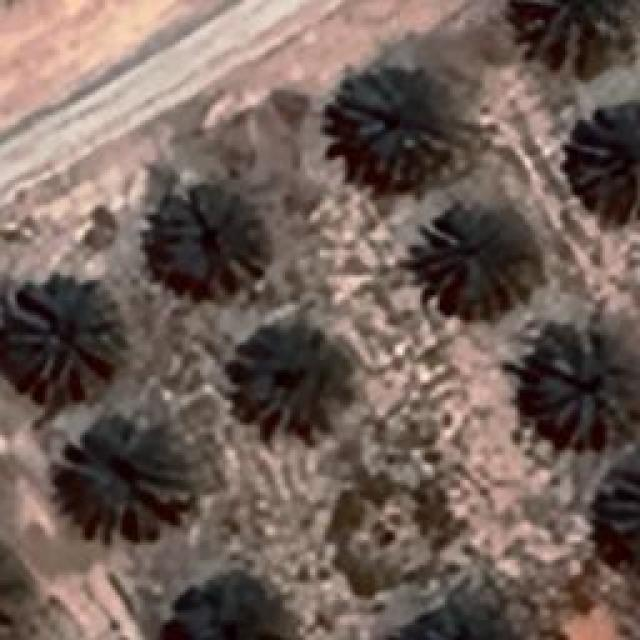PalmTree: (62, 415, 190, 543), (335, 67, 463, 185), (0, 285, 125, 400), (418, 208, 540, 320), (232, 322, 350, 436), (152, 180, 270, 290), (530, 330, 635, 445), (570, 105, 635, 220), (179, 575, 289, 640), (514, 0, 628, 60), (0, 538, 44, 640), (393, 604, 516, 640), (600, 452, 638, 538)
